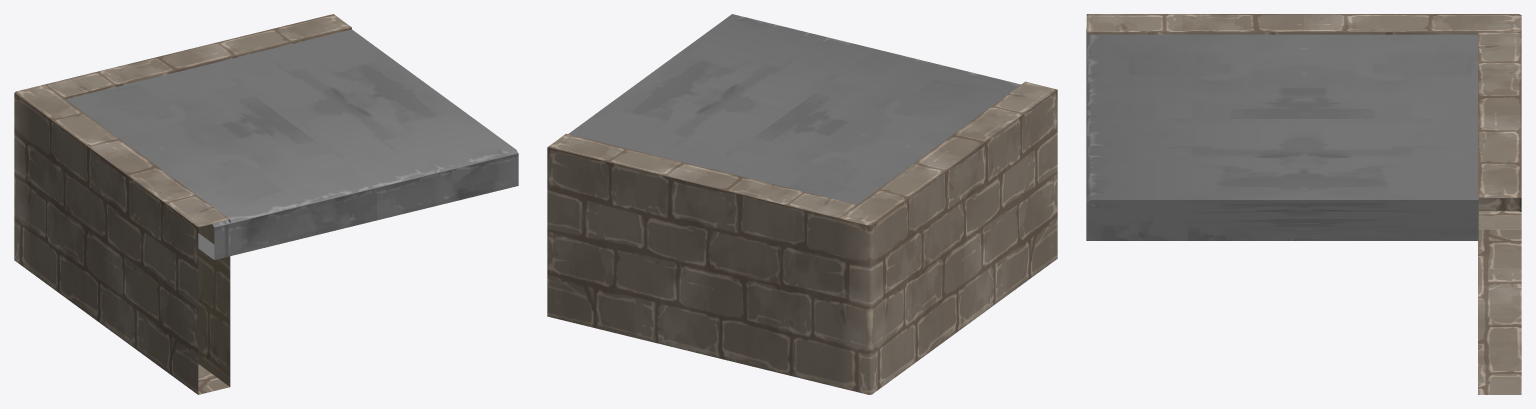
Rendered from Stairs_Exterior_Platform45Clean.gltf.
The picture shows the model from 3 angles, left to right: view 1: azimuth 30°, elevation 25°; view 2: azimuth 150°, elevation 25°; view 3: azimuth 270°, elevation 25°; orthographic projection. The views are drawn at different scales.
Visible parts, largest first — view 1: Stairs_Exterior_Platform45Clean; view 2: Stairs_Exterior_Platform45Clean; view 3: Stairs_Exterior_Platform45Clean.
Part boxes in pixels (<box>): Stairs_Exterior_Platform45Clean: <box>14,14,518,394</box>; Stairs_Exterior_Platform45Clean: <box>547,14,1057,394</box>; Stairs_Exterior_Platform45Clean: <box>1086,14,1521,394</box>.
Bounding box in the file's own units: 2 × 1 × 2.
Materials: 2 (2 with a texture image).
